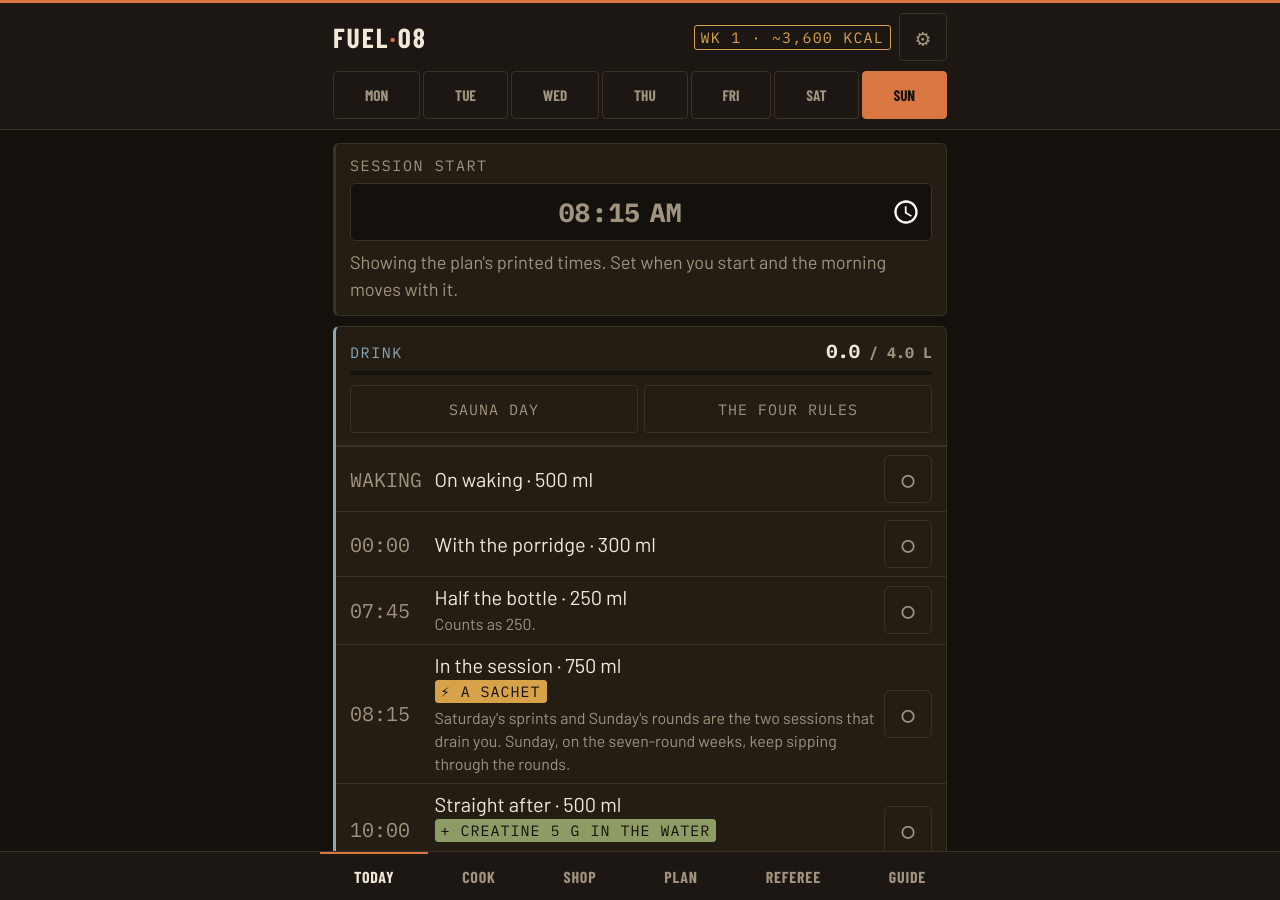
Test: Fuel · Optimal 8 Fighter › has no session and no bottle on Friday
The width and height of the screenshot is (1280, 900).
Click the button "FRI": (731, 95) [691, 71, 771, 119]
(page scrolled)
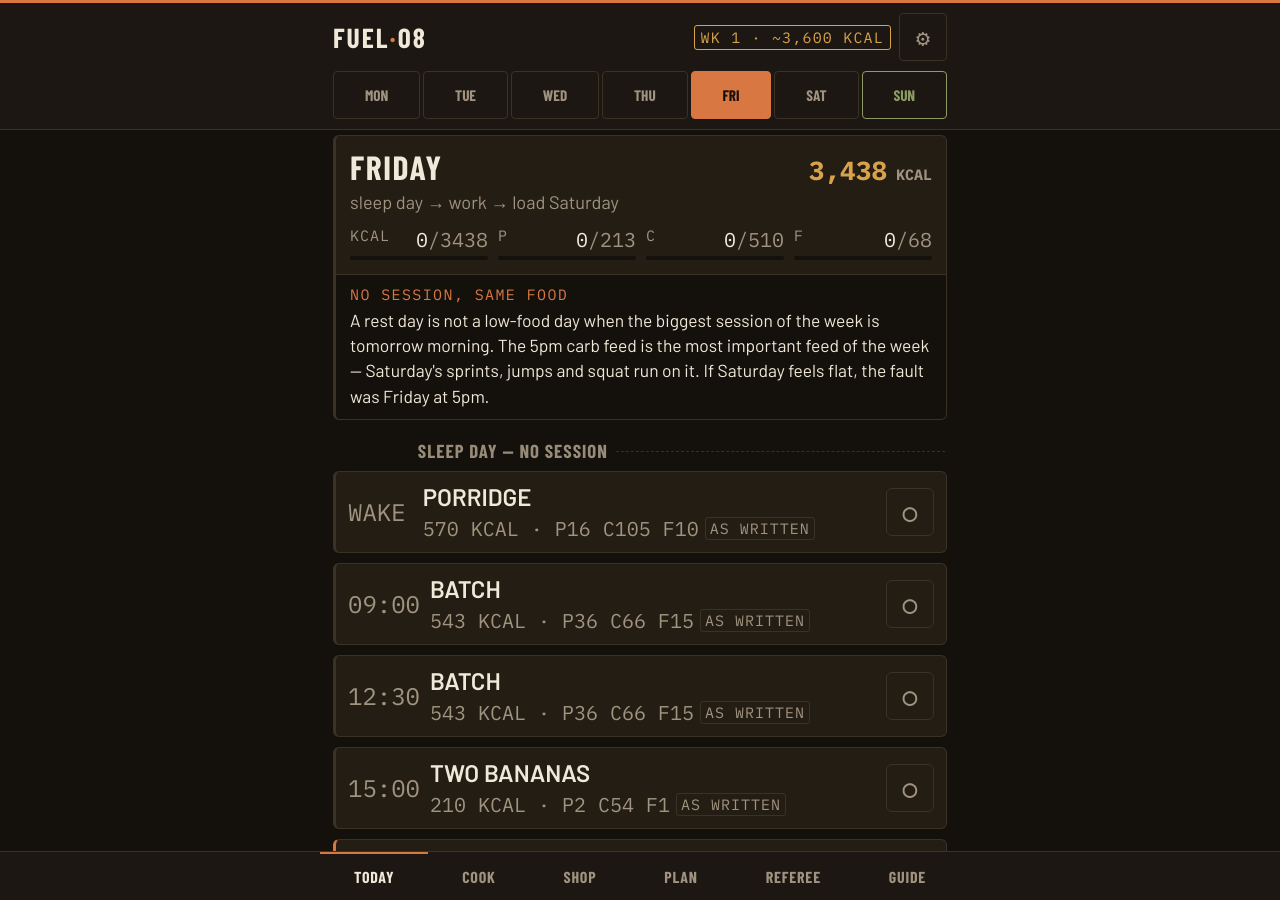
Expected: the text "FRIDAY" is shown, [350, 150, 443, 184]
Expected: the text "WAKE" is shown, [348, 496, 413, 528]
Expected: the text "PORRIDGE" is shown, [423, 482, 531, 512]
